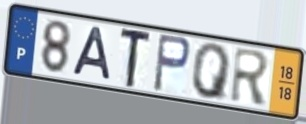8: (39, 19, 73, 75)
A: (70, 25, 113, 84)
P: (151, 32, 193, 96)
Q: (191, 42, 234, 103)
R: (229, 45, 272, 107)
T: (118, 28, 154, 90)
